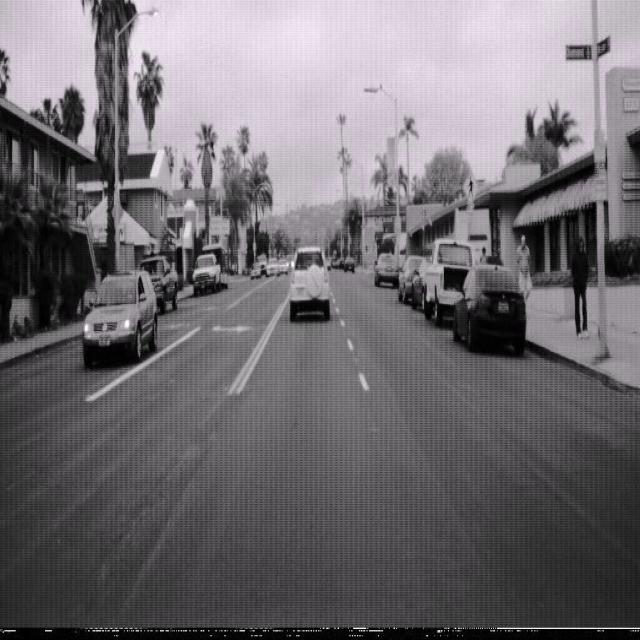pedestrianCrossing: (461, 169, 480, 207)
